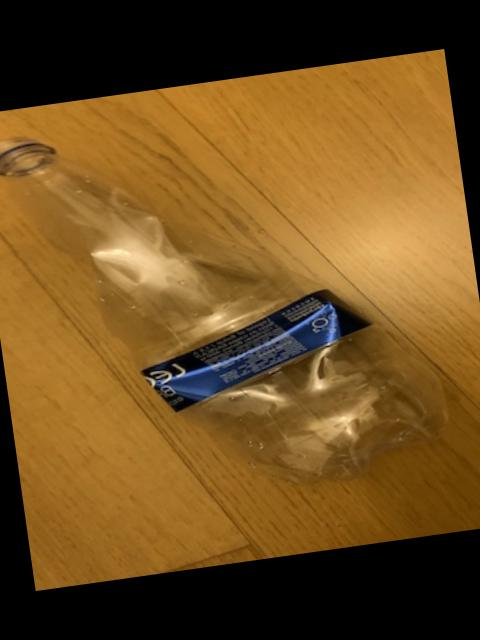plastic: (0, 140, 447, 484)
